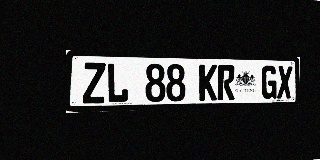8: (145, 63, 166, 102), (166, 64, 186, 102)
G: (261, 65, 277, 99)
K: (199, 64, 217, 101)
L: (106, 63, 128, 103)
R: (217, 65, 235, 100)
X: (277, 66, 292, 99)
Z: (82, 62, 106, 104)
